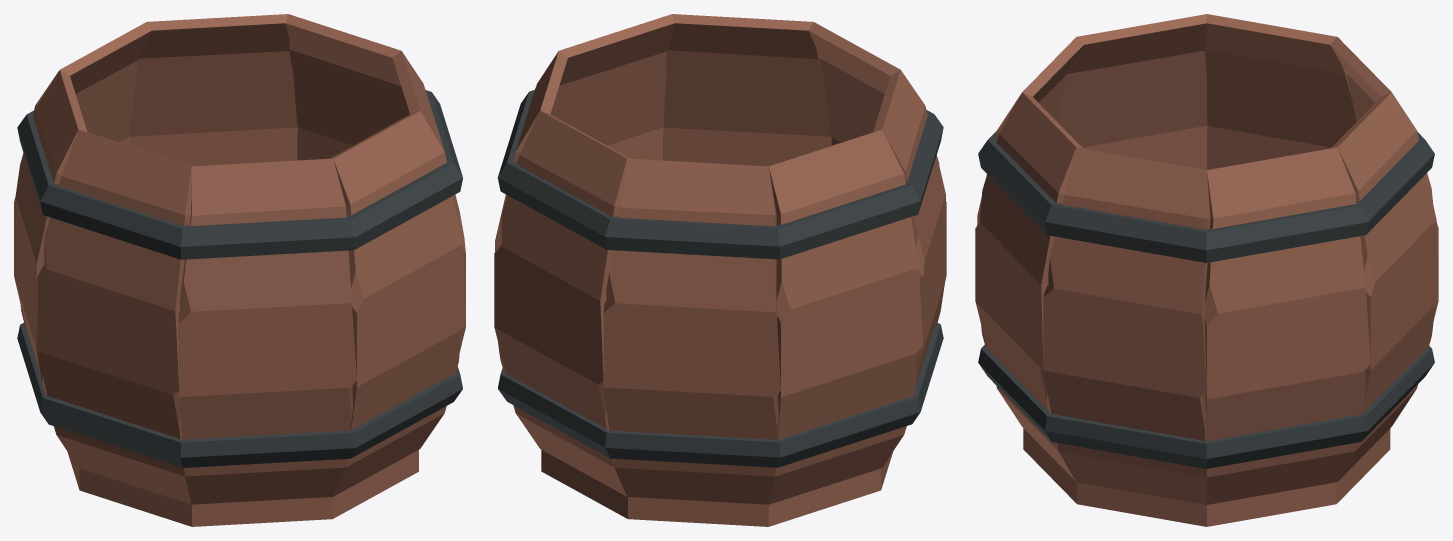
File: barrel.fbx
3 views of the same model, side by side, from view 1: azimuth 30°, elevation 25°; view 2: azimuth 150°, elevation 25°; view 3: azimuth 270°, elevation 25° (orthographic).
Visible parts, largest first — view 1: Cylinder.002; view 2: Cylinder.002; view 3: Cylinder.002.
Boxes of the visible parts, bbox=[...] form: Cylinder.002: bbox=[14, 14, 465, 526]; Cylinder.002: bbox=[494, 14, 946, 526]; Cylinder.002: bbox=[975, 14, 1438, 526].
Size of the model in its own units: 251 by 213 by 251.
